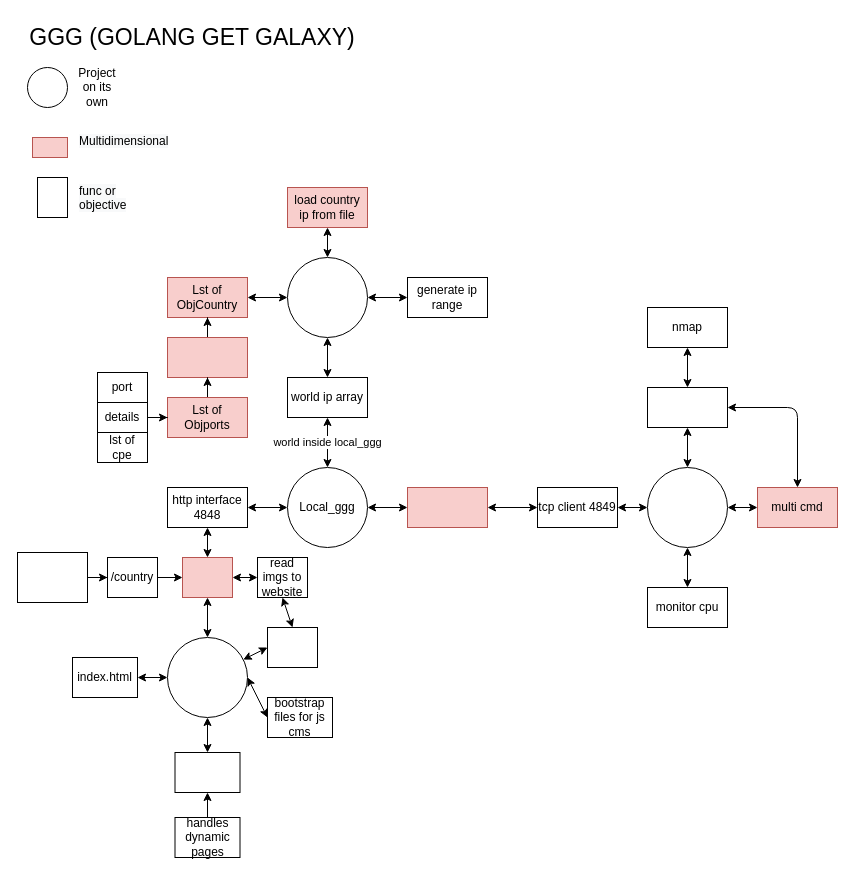
This 855x876 diagram has some shape labels left out. The centre of each missing label's shape, as x and y in pixels:
cmd: [687,407]
handle file web requests: [207,577]
img folder: [292,647]
Lst of ObjComputer: [207,357]
master.js: [207,772]
Node: [687,507]
produce html of objcountry: [52,577]
tcp server 4849: [447,507]
web files /web/: [207,677]
world: [327,297]
